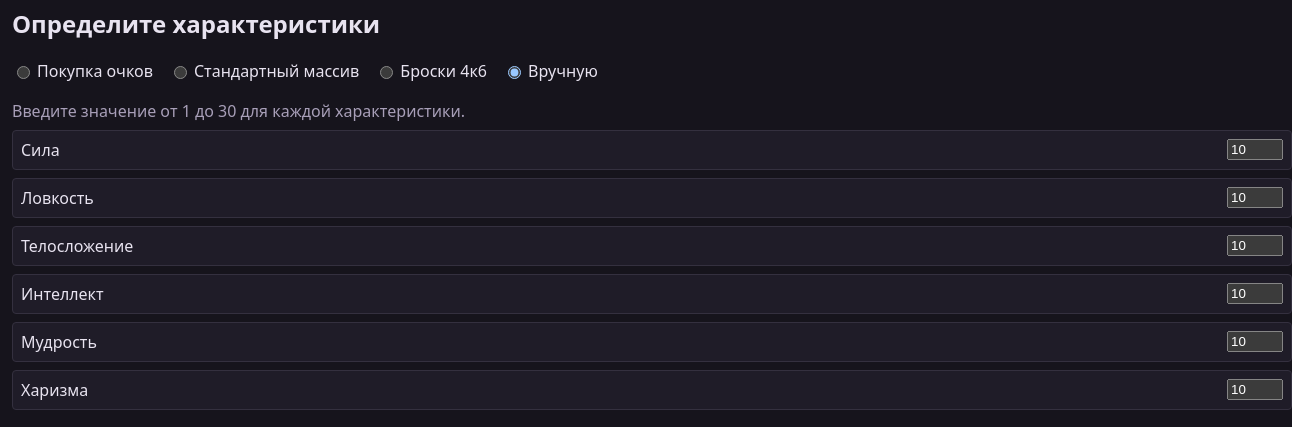
Test: AbilityScoreStep › manual entry clamps values to the 1-30 range
Replace the text in the number field labelled "Сила" with "99": (1255, 150) [1227, 139, 1283, 160]
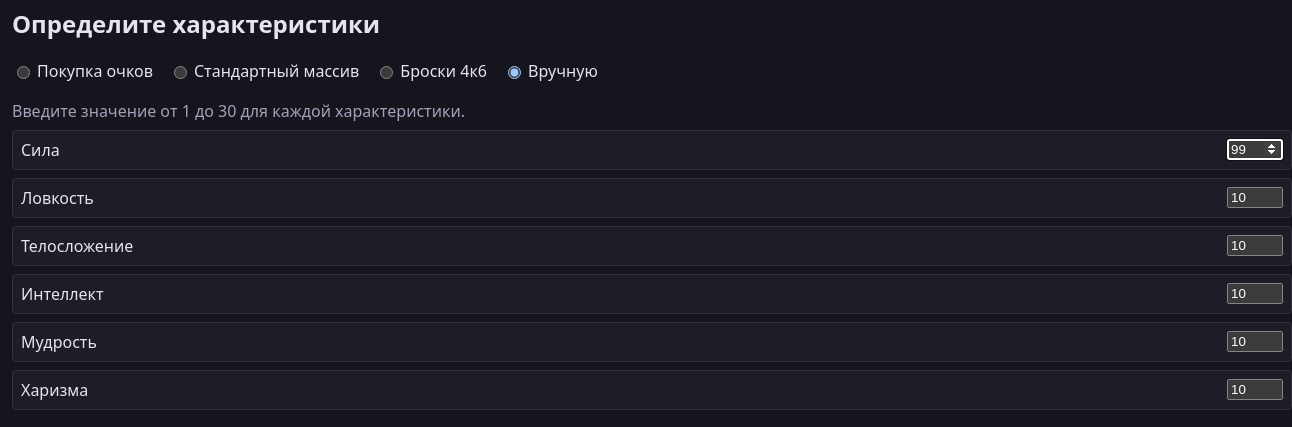
Press Tab
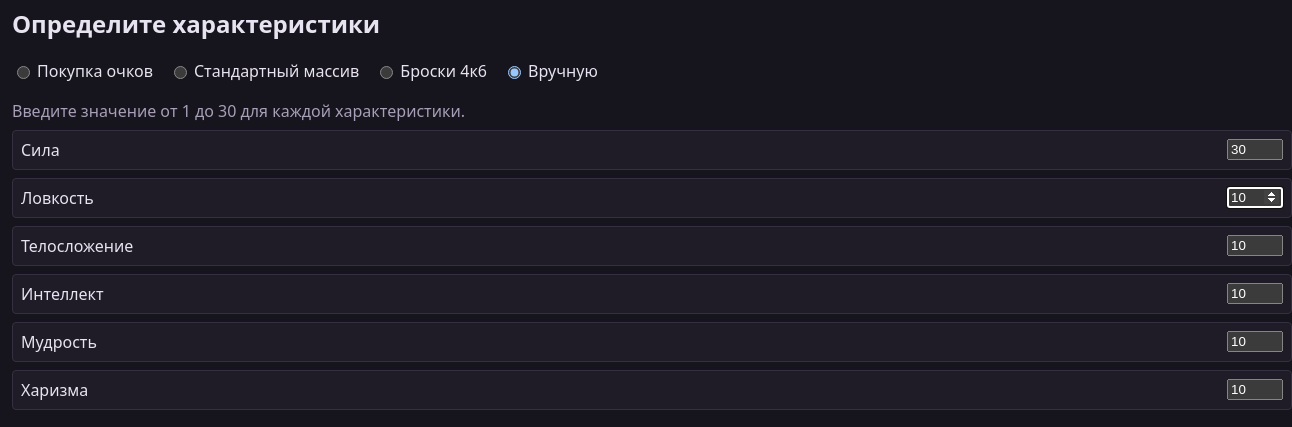
Expected: the number field labelled "Сила" holds "30"
Replace the text in the number field labelled "Сила" with "0": (1255, 150) [1227, 139, 1283, 160]
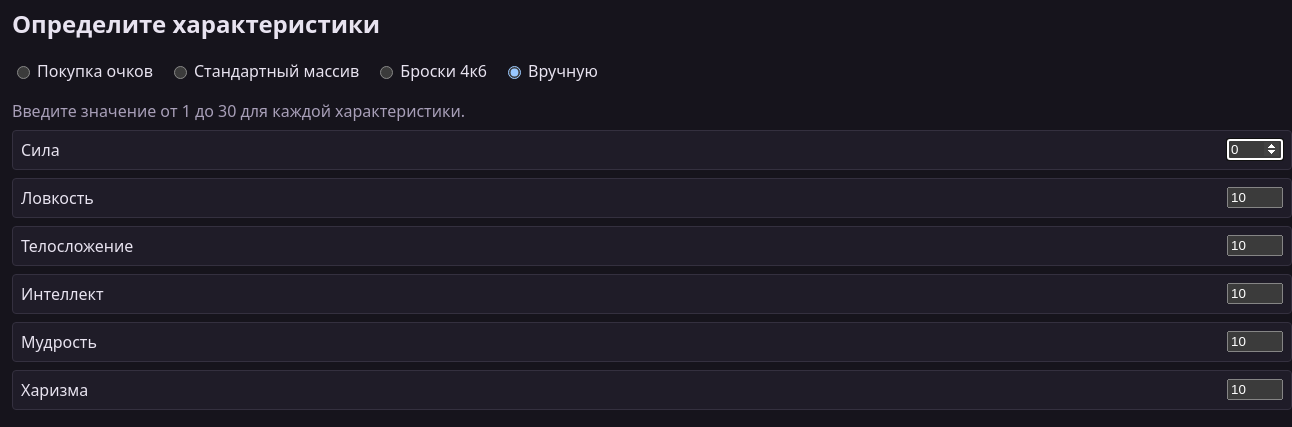
Press Tab
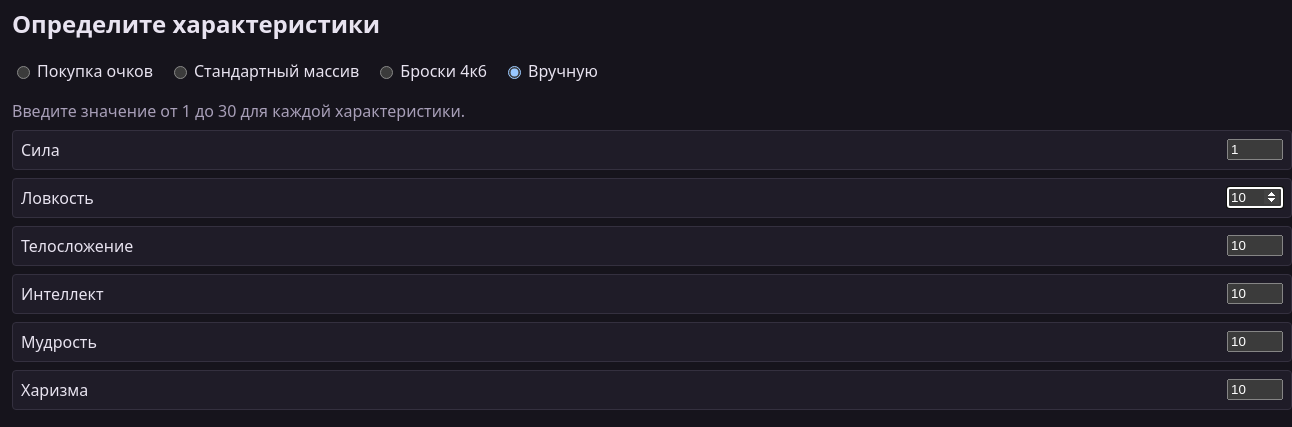
Expected: the number field labelled "Сила" holds "1", [1227, 139, 1283, 160]
